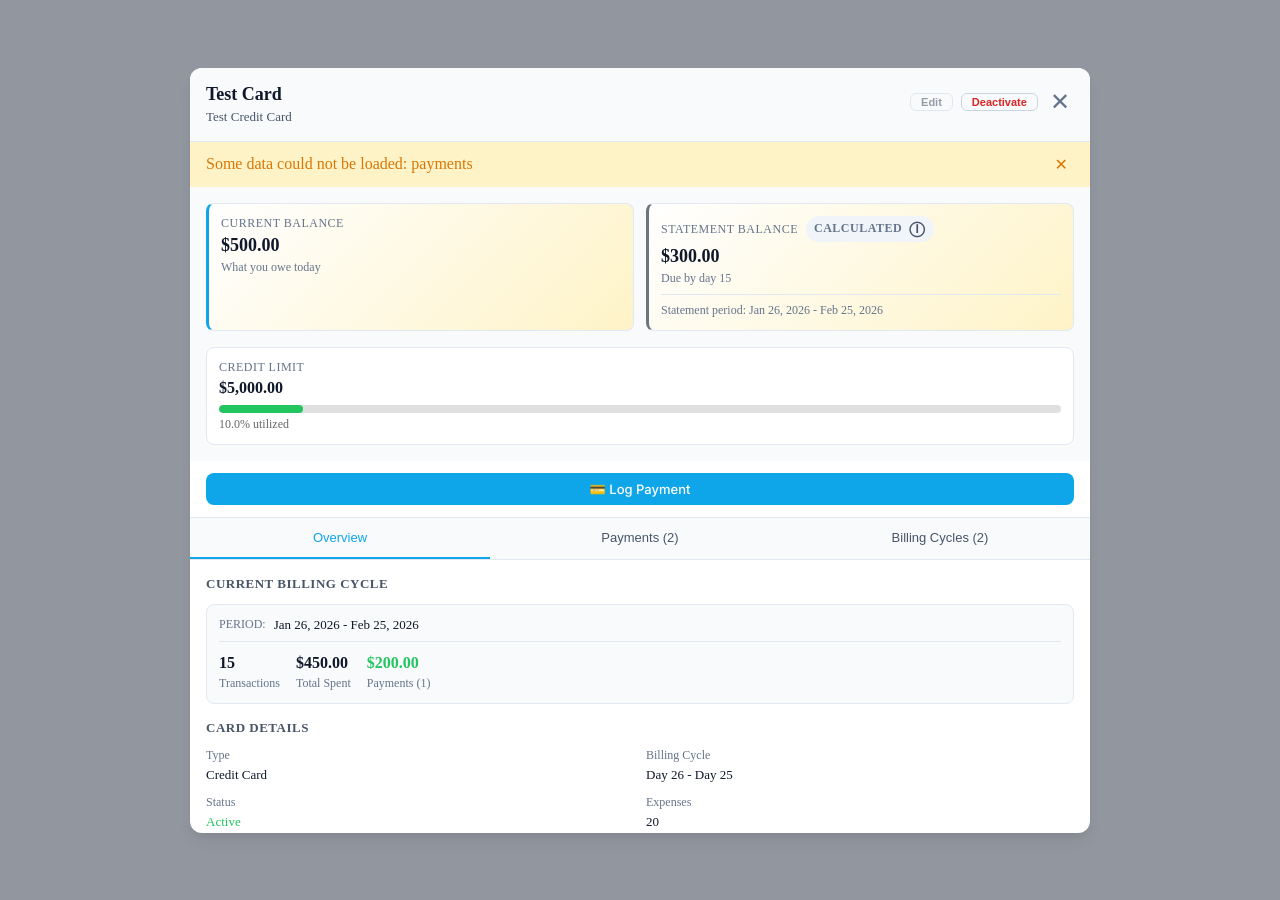
CreditCardDetailView - Unified Endpoint Integration › Partial Failure Warning › should dismiss warning when close button is clicked
This screenshot has width=1280, height=900.
Expected: the message "Some data could not be loaded: payments ✕" is shown, [190, 142, 1090, 186]
# Click dismiss button on warning
Click the button "✕" in the row of "Some data could not be loaded:" at {"x": 1061, "y": 164}, box [1049, 154, 1074, 174]
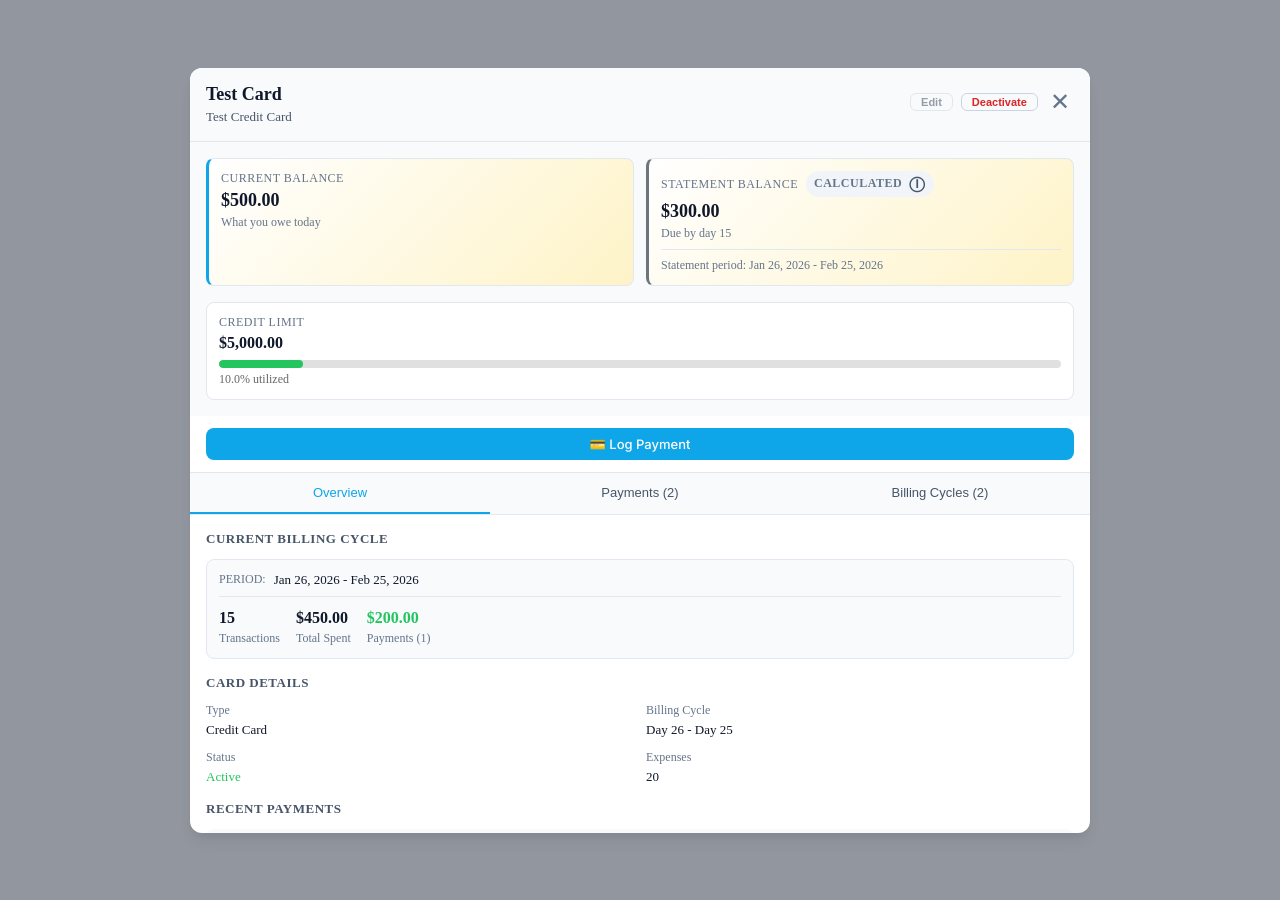
Result: the message "Some data could not be loaded: payments ✕" is gone
